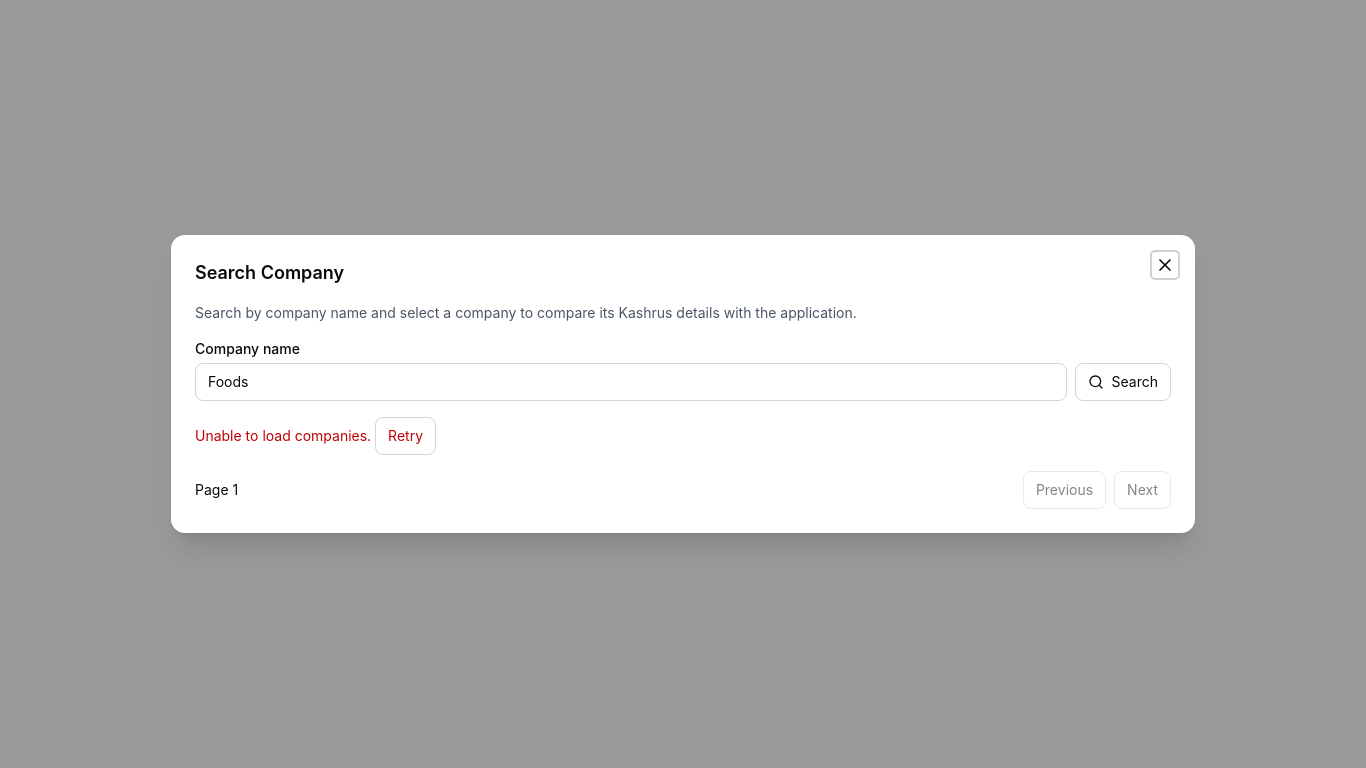
Scenario: company search in the resolution drawer › shows a recoverable error and retries
Expected: the message "Unable to load companies. Retry" is shown, [195,417,436,455]
What coordinates should you click on to do the following:
click the button "Retry"
I would click on:
 (406, 436)
Its box is [375,417,436,455].
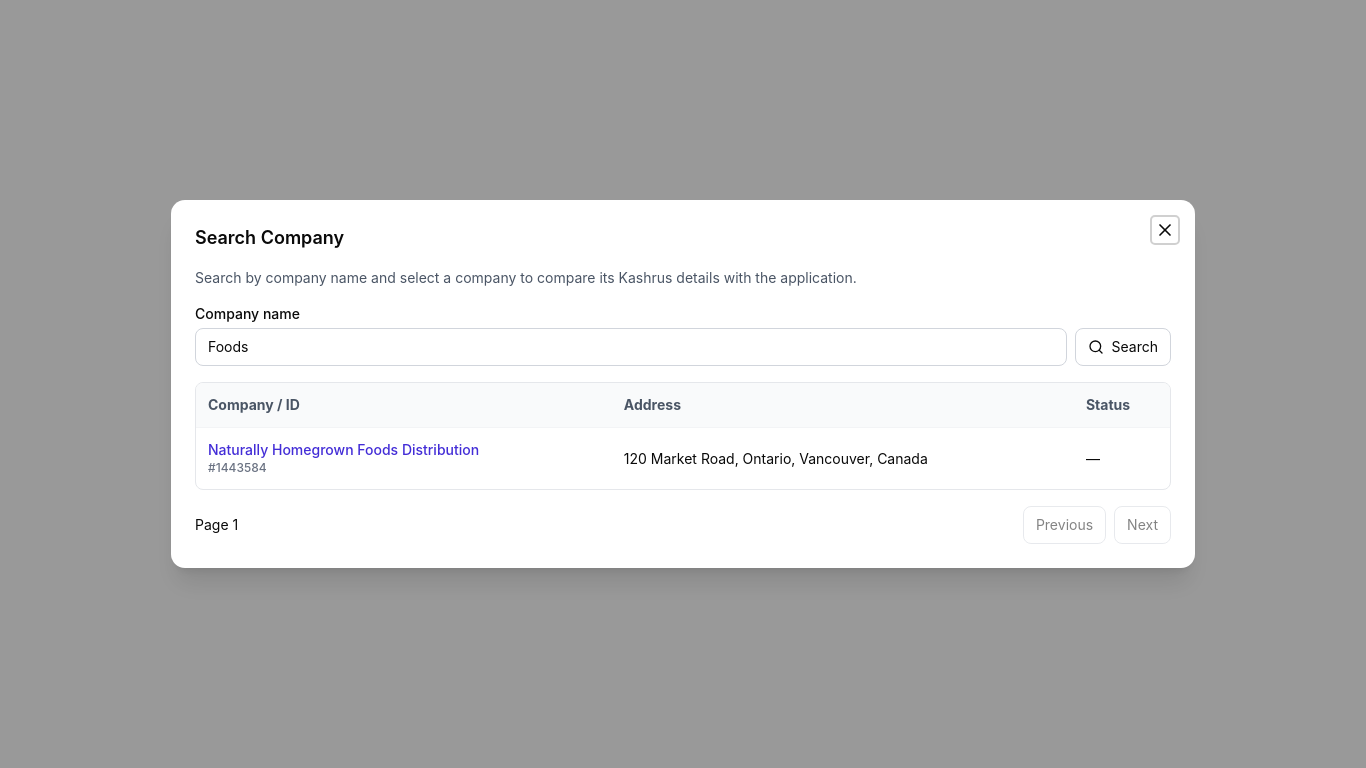
Expected: the button "Naturally Homegrown Foods Distribution #1443584" is shown, [208,440,479,476]
